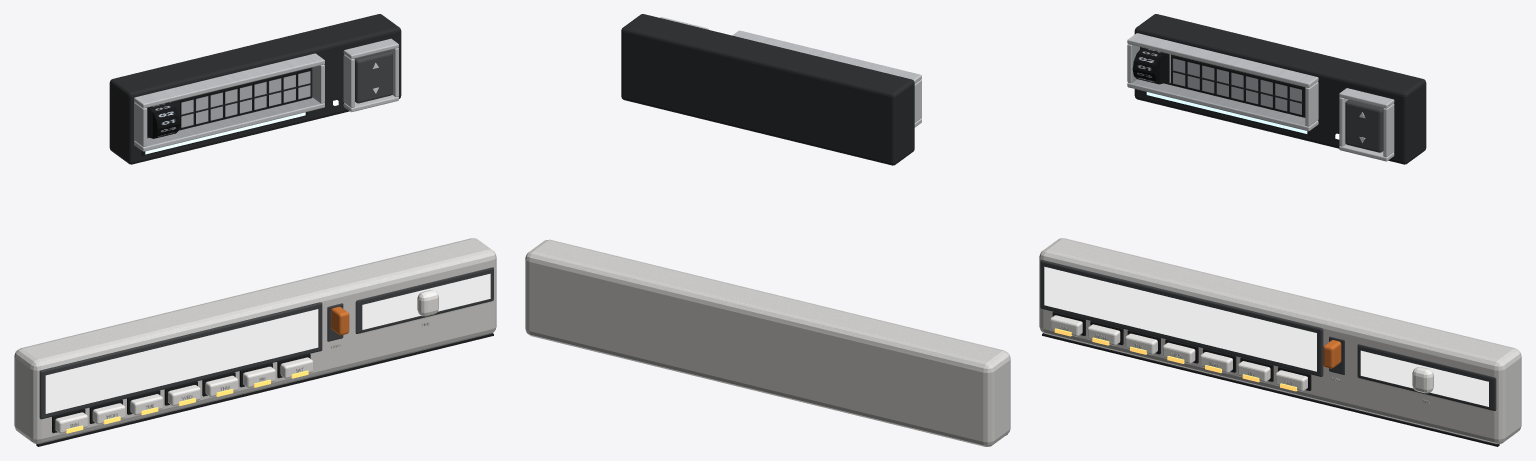
File: console-v18.glb
The picture shows the model from 3 angles, left to right: view 1: azimuth 30°, elevation 25°; view 2: azimuth 150°, elevation 25°; view 3: azimuth 330°, elevation 25°; orthographic projection.
Parts seen in each view (by area): view 1: clk-body, sel-body, clk-screen, sel-glass, clk-screen-well, clk-bar, sel-bezel-0, sel-bezel-1, sel-rocker, clk-bar-well, clk-body-shadowline, sel-drum-index (+13 smaller); view 2: clk-body, sel-body, sel-bezel-0; view 3: clk-body, sel-body, clk-screen, sel-glass, clk-screen-well, clk-bar, sel-bezel-0, sel-bezel-1, sel-rocker, clk-bar-well, clk-body-shadowline, sel-drum-index (+13 smaller).
Boxes of the visible parts, x1=… form: clk-body: x1=14, y1=238, x2=496, y2=443; sel-body: x1=109, y1=14, x2=401, y2=164; clk-screen: x1=45, y1=309, x2=318, y2=413; sel-glass: x1=147, y1=66, x2=320, y2=145; clk-screen-well: x1=39, y1=302, x2=322, y2=419; clk-bar: x1=362, y1=273, x2=490, y2=329; sel-bezel-0: x1=134, y1=53, x2=324, y2=108; sel-bezel-1: x1=134, y1=97, x2=324, y2=151; sel-rocker: x1=354, y1=50, x2=392, y2=103; clk-bar-well: x1=355, y1=267, x2=493, y2=333; clk-body-shadowline: x1=36, y1=333, x2=493, y2=446; sel-drum-index: x1=147, y1=102, x2=180, y2=138; clk-body: x1=525, y1=239, x2=1010, y2=446; sel-body: x1=621, y1=14, x2=914, y2=165; sel-bezel-0: x1=732, y1=30, x2=921, y2=83; clk-body: x1=1039, y1=238, x2=1521, y2=443; sel-body: x1=1134, y1=14, x2=1426, y2=164; clk-screen: x1=1044, y1=266, x2=1316, y2=371; sel-glass: x1=1132, y1=45, x2=1304, y2=125; clk-screen-well: x1=1040, y1=260, x2=1323, y2=376; clk-bar: x1=1360, y1=350, x2=1488, y2=406; sel-bezel-0: x1=1127, y1=33, x2=1318, y2=87; sel-bezel-1: x1=1127, y1=79, x2=1318, y2=131; sel-rocker: x1=1345, y1=99, x2=1383, y2=152; clk-bar-well: x1=1357, y1=344, x2=1496, y2=410; clk-body-shadowline: x1=1042, y1=333, x2=1499, y2=446; sel-drum-index: x1=1132, y1=48, x2=1167, y2=84.
Bounding box in the file's own units: 0.58 × 0.3935 × 0.079.
43 materials, 31 textured.
